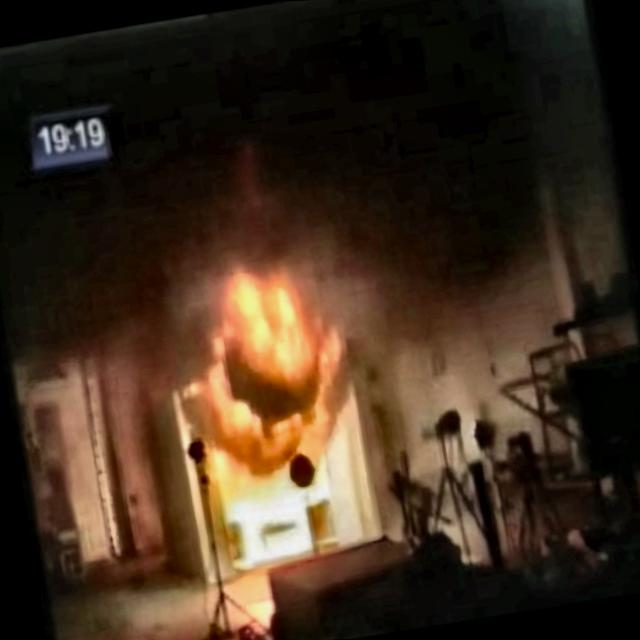fire: (174, 238, 376, 466)
